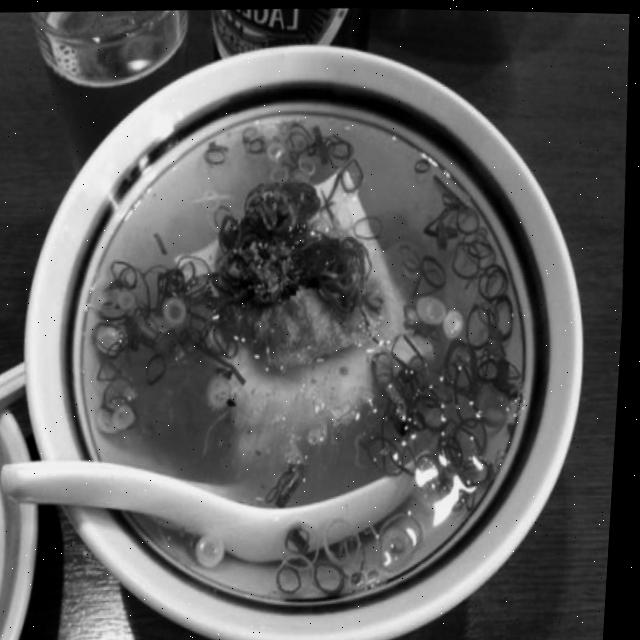豆腐料理: (0, 18, 622, 640)
